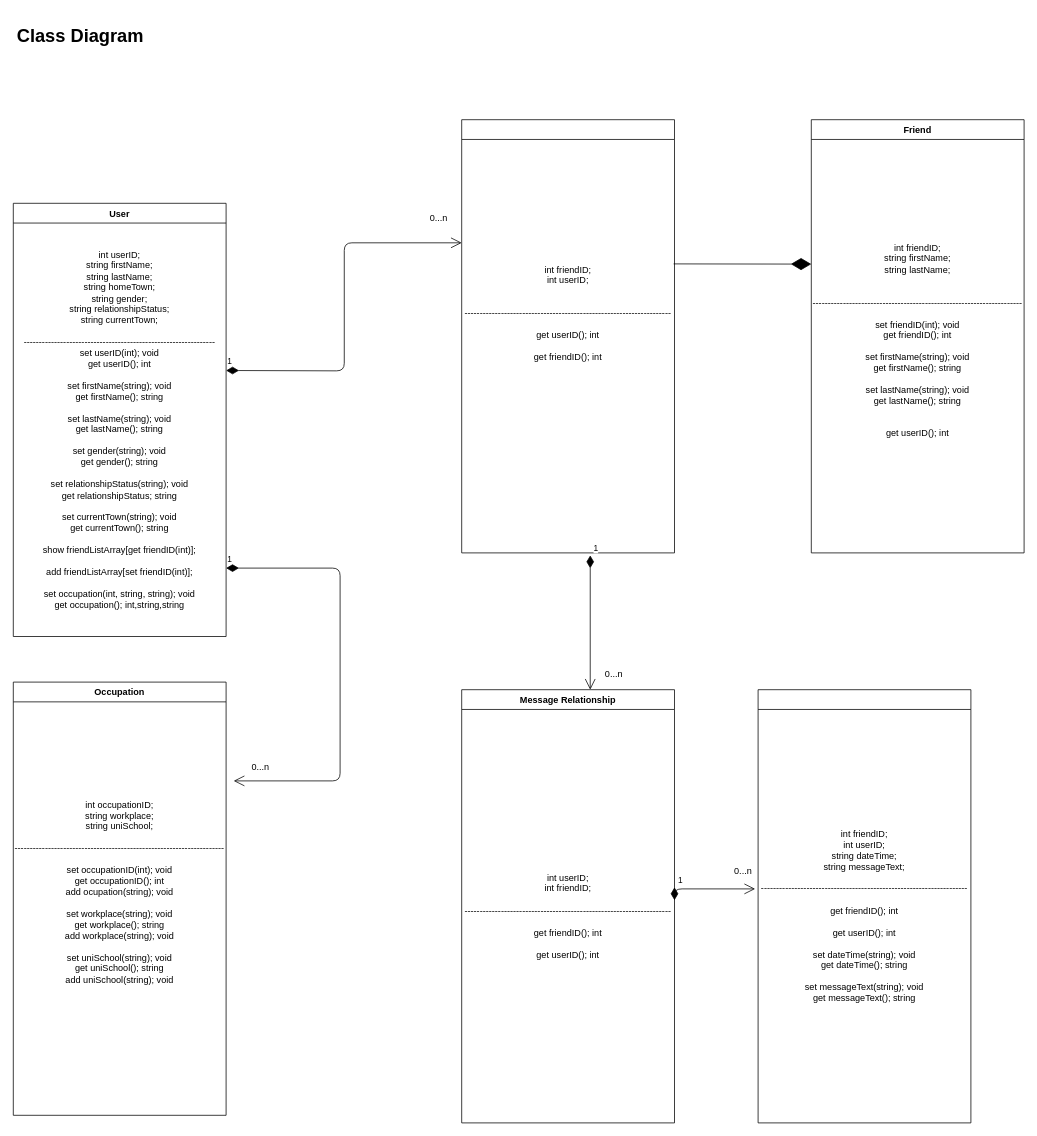
Image size: 1037x1136. Some labels were removed from this diagram. Here are the shapes that lost their labels. From the top down, the box of each, then its label:
(461, 119, 674, 553): Friendship
(757, 689, 971, 1123): Message Content
